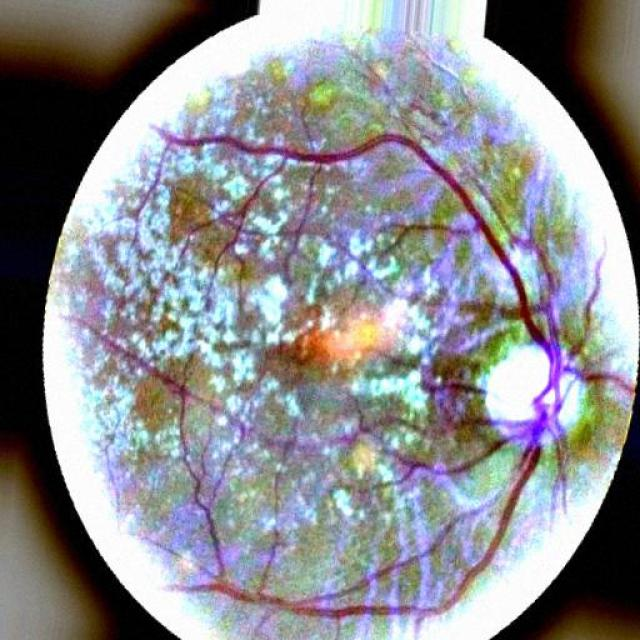Macula: (273, 316, 386, 371)
Nerves: (75, 126, 636, 621)
Optic Disk: (481, 338, 597, 450)
